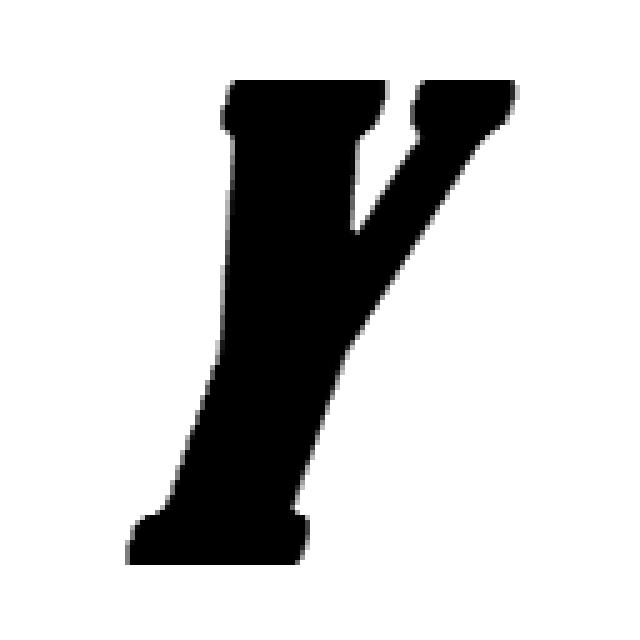Y: (120, 65, 520, 570)
